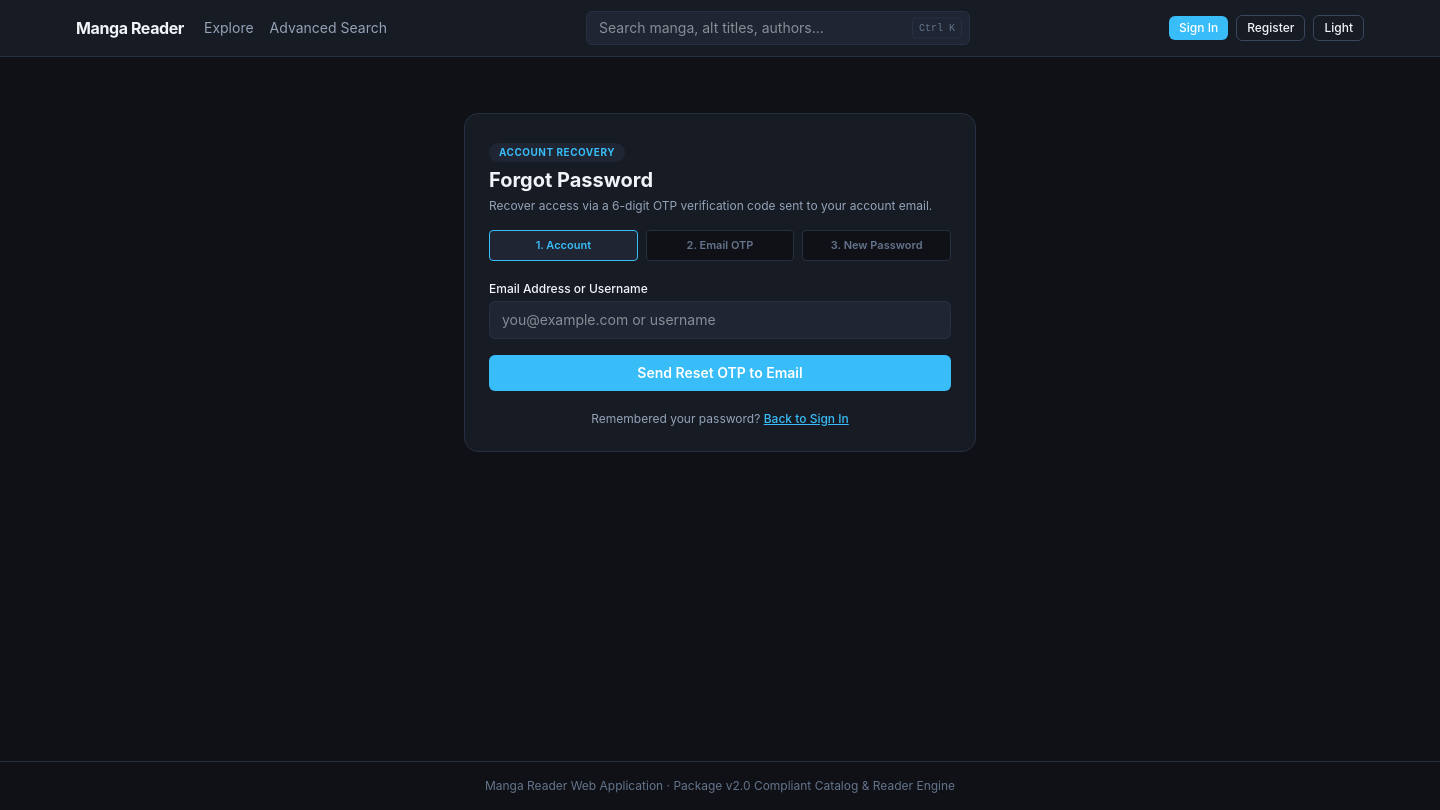
Test: Manga Reader Frontend Application › completes 3-step Forgot Password Email OTP recovery flow
In the field labelled "Email Address or Username": (720, 320) [489, 300, 951, 338], type "reader01"
Click the button "Send Reset OTP to Email": (720, 372) [489, 354, 951, 390]
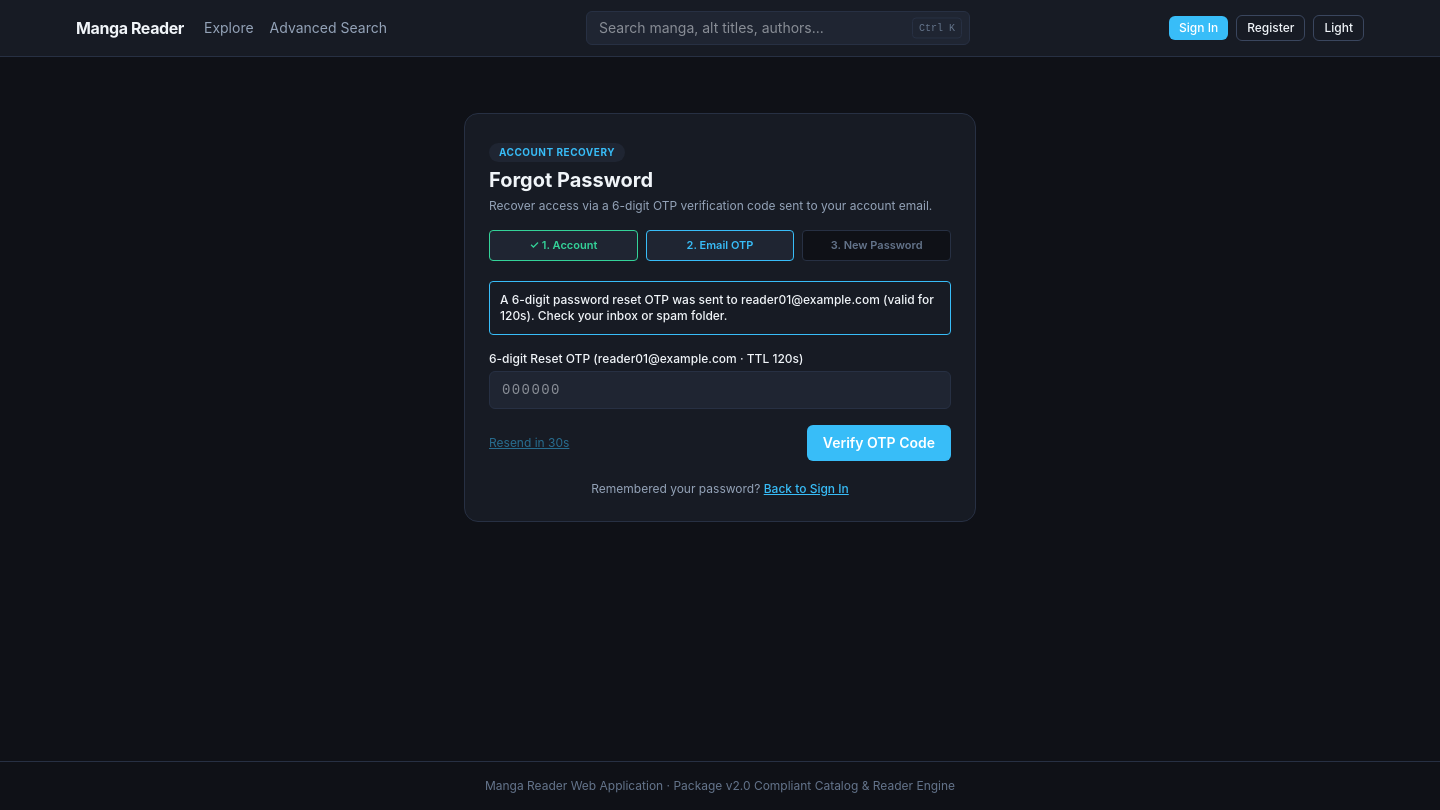
In the field labelled "6-digit Reset OTP (reader01@example.com · TTL 120s)": (720, 390) [489, 370, 951, 408], type "654321"
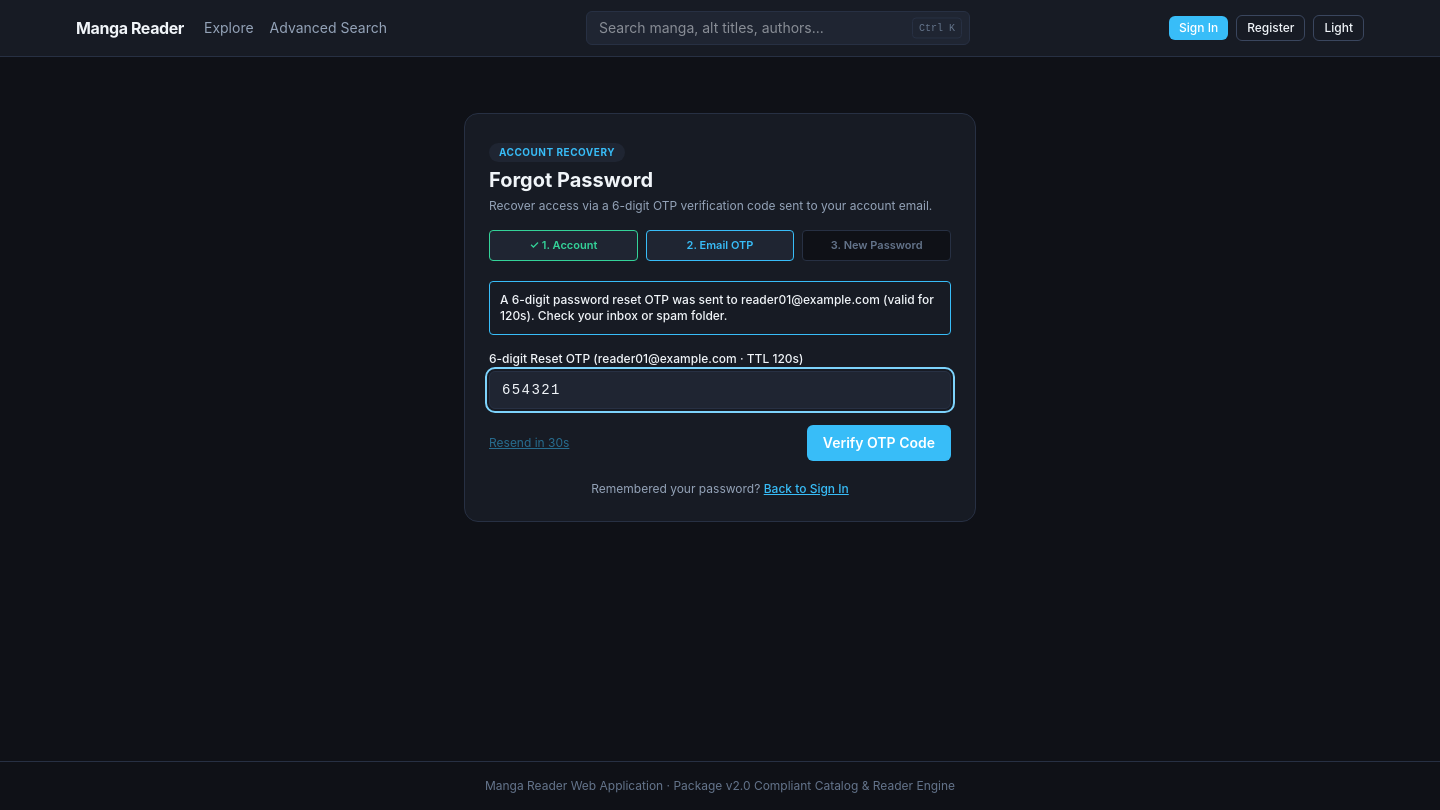
Click the button "Verify OTP Code": (879, 442) [807, 424, 951, 460]
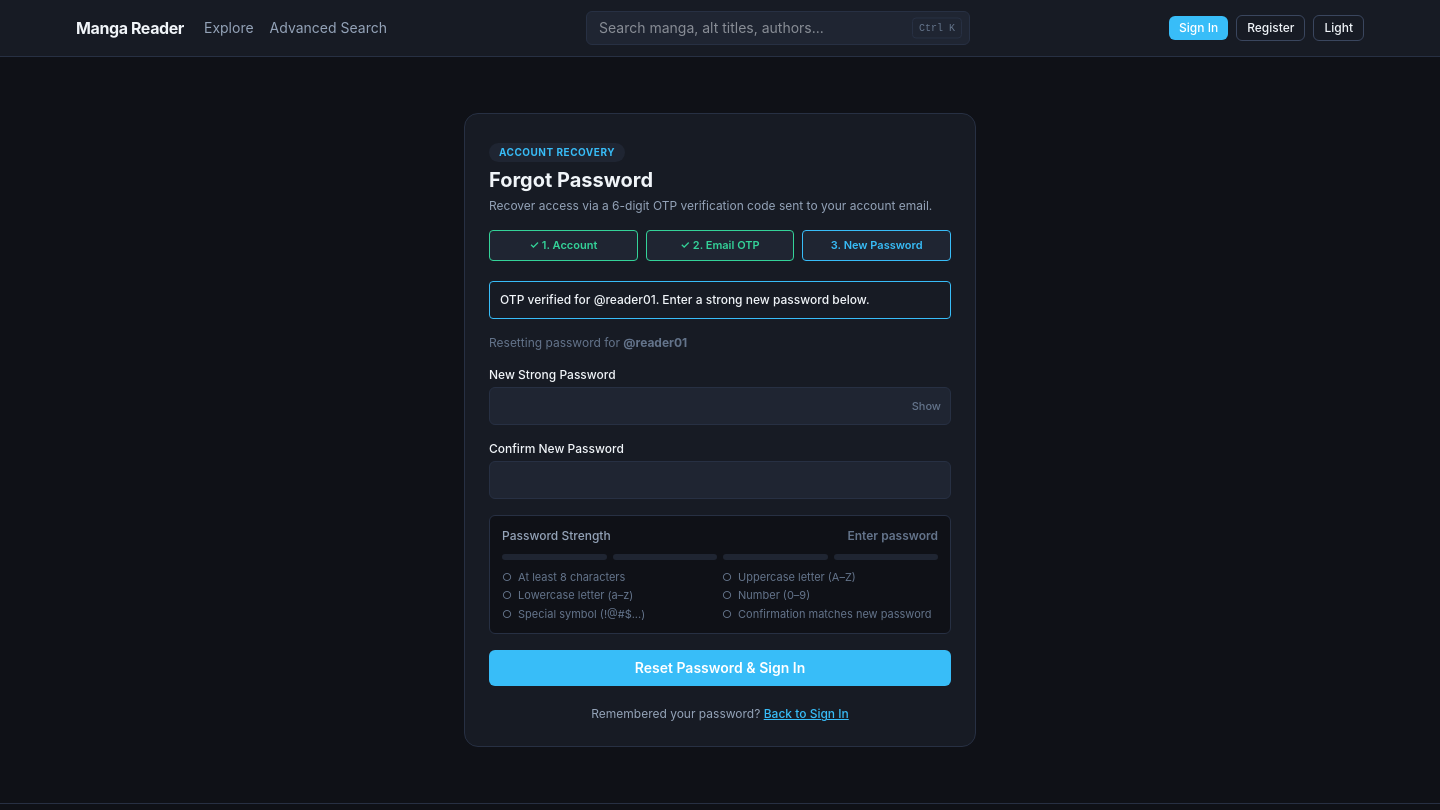
Check: the password field labelled "New Strong Password" is shown
In the password field labelled "New Strong Password": (720, 406) [489, 386, 951, 424], type "StrongPass@99"
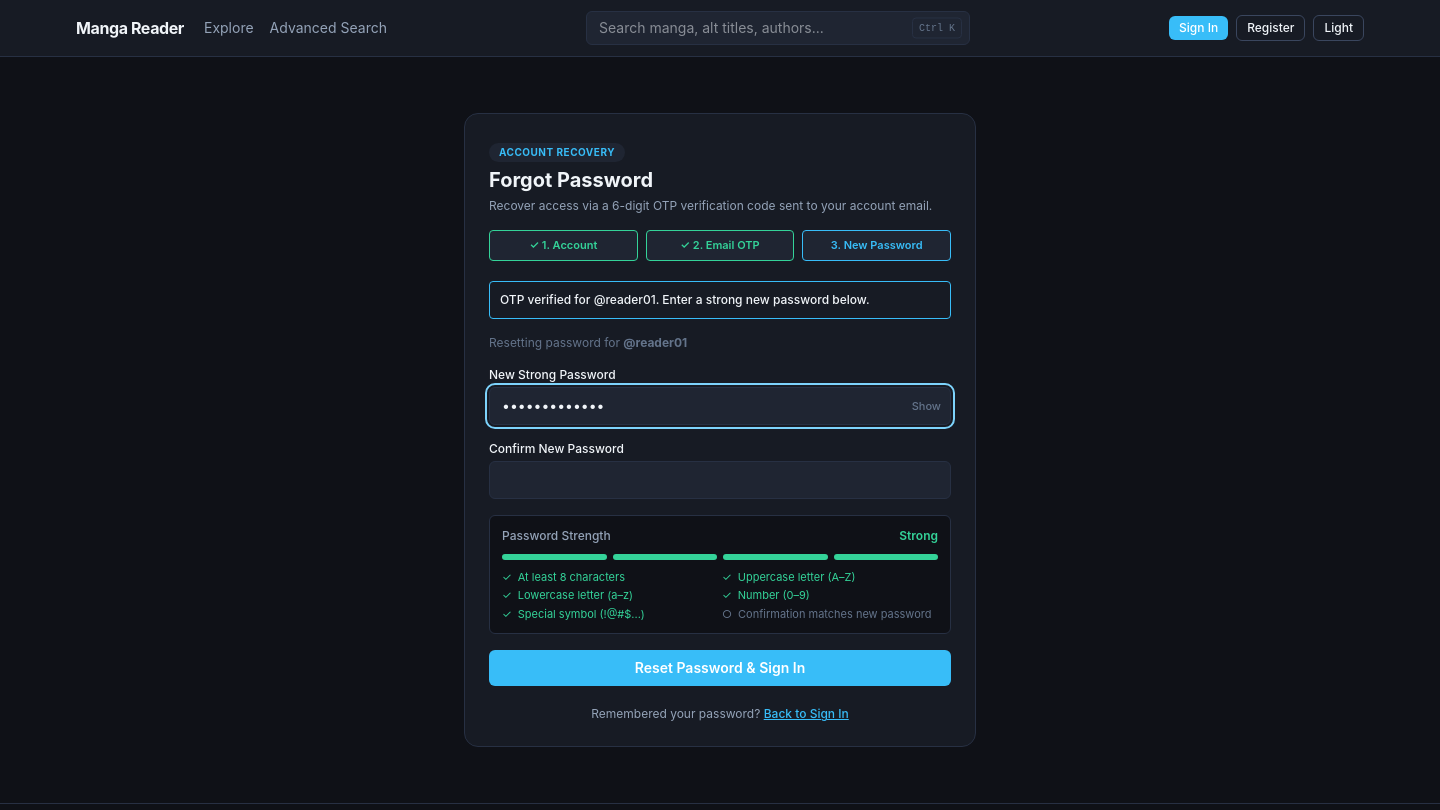
In the password field labelled "Confirm New Password": (720, 480) [489, 460, 951, 498], type "StrongPass@99"
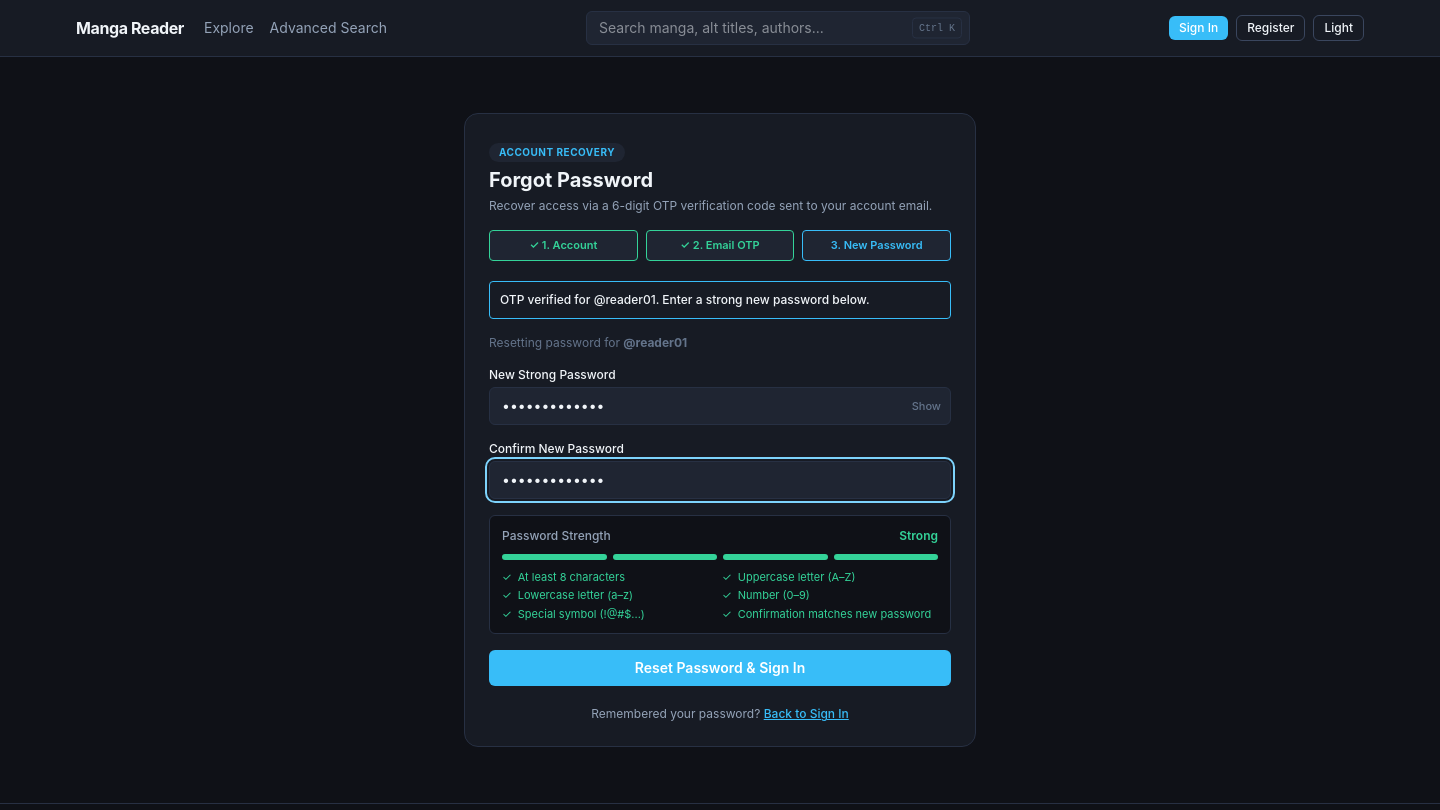
Click the button "Reset Password & Sign In": (720, 668) [489, 650, 951, 686]
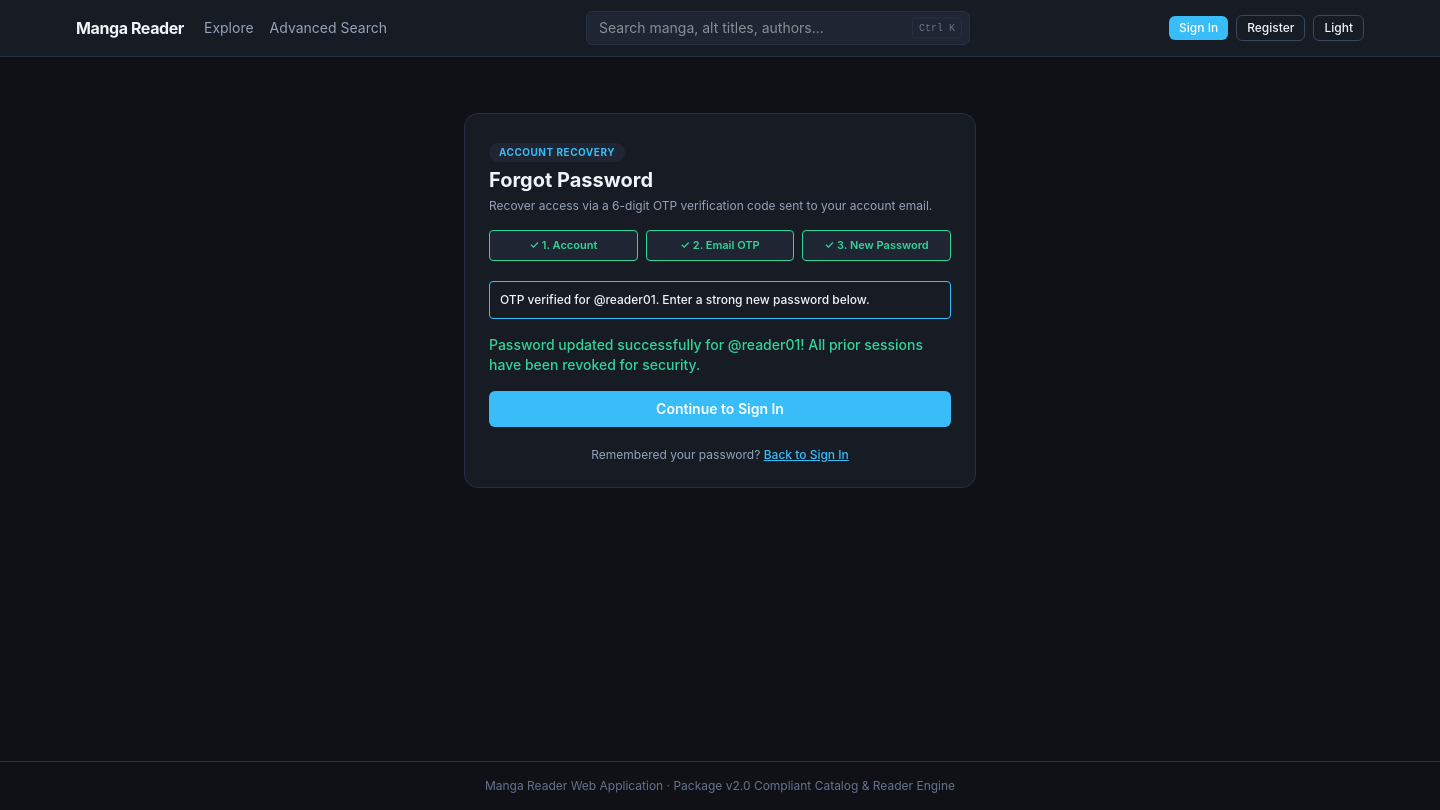
Check: the text "Password updated successfully for @reader01" is shown, box [489, 334, 951, 374]
